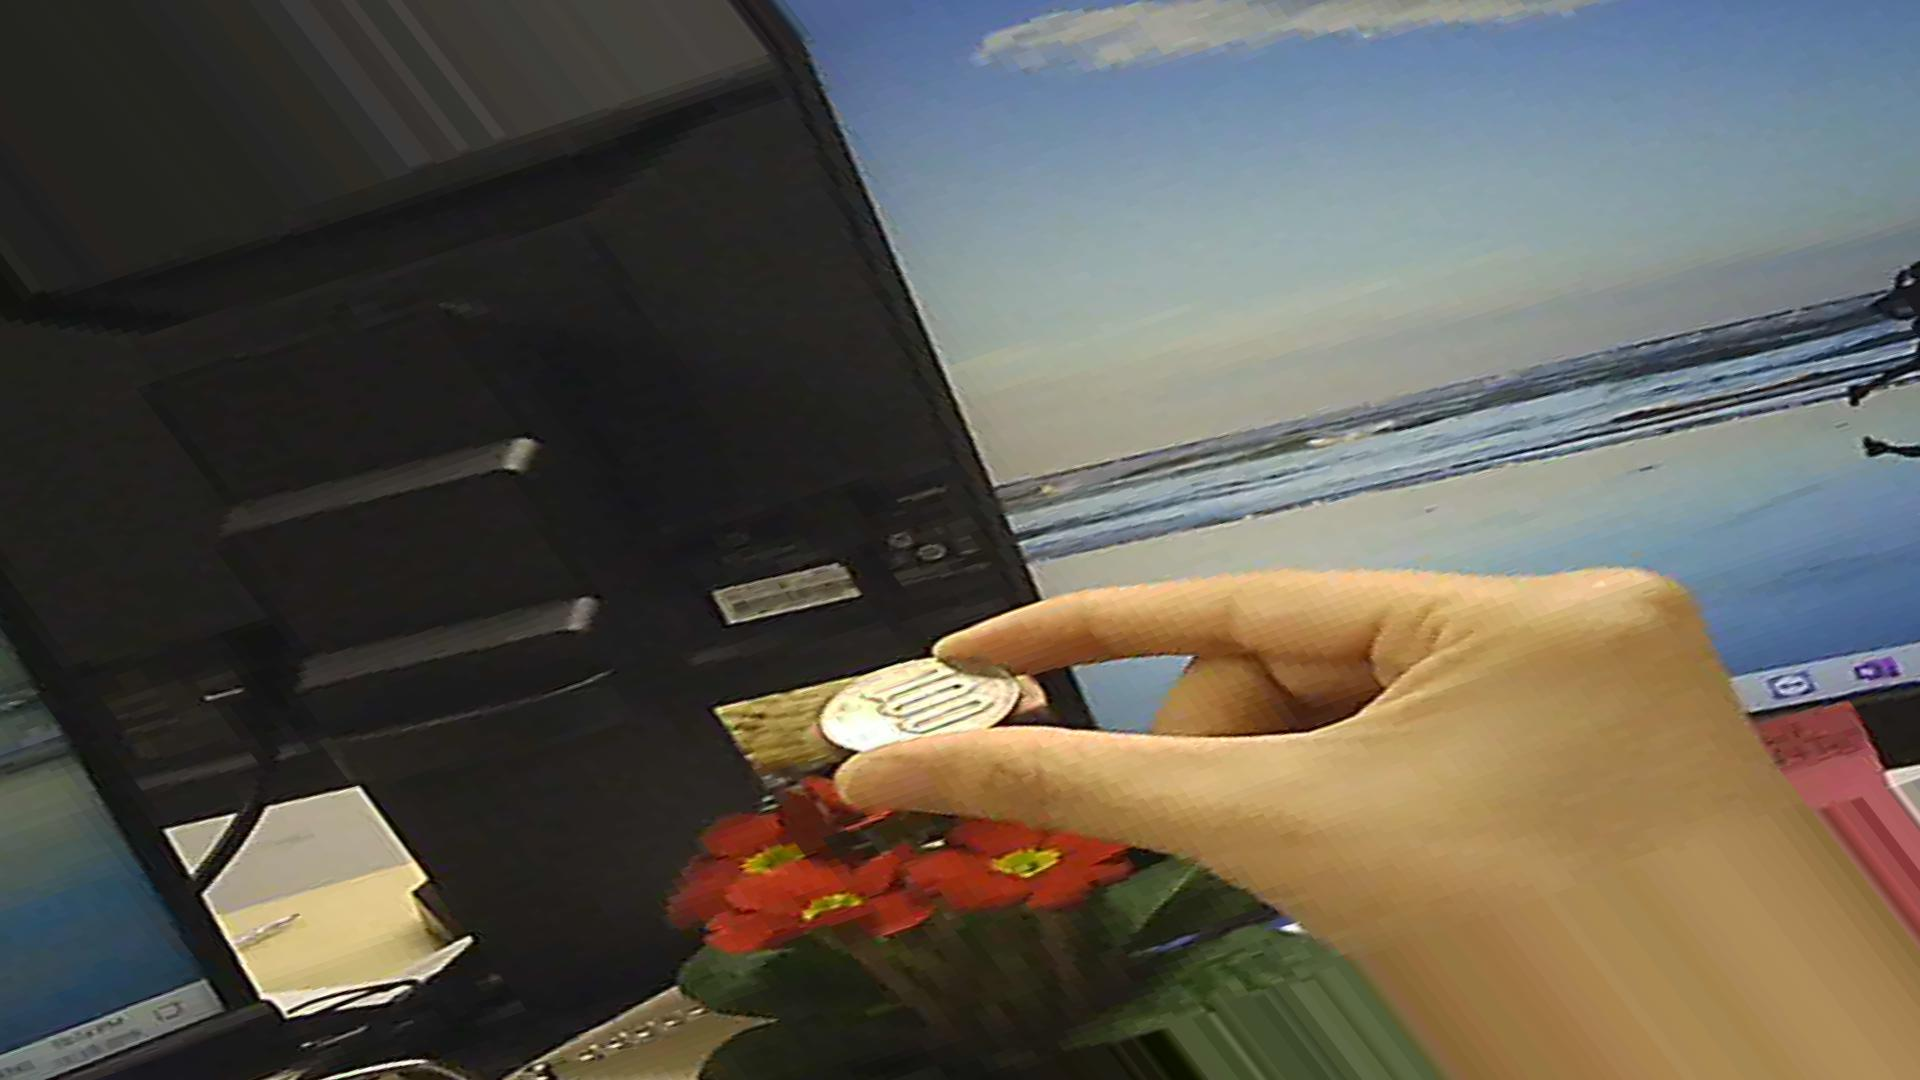100 Yen: (804, 651, 1023, 767)
